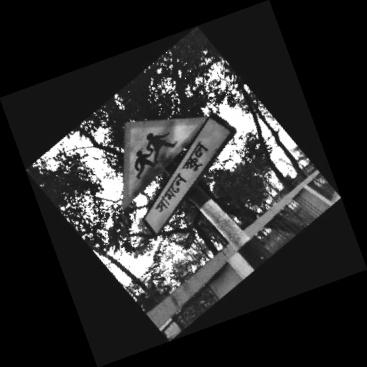School-in-front: (124, 113, 237, 238)
